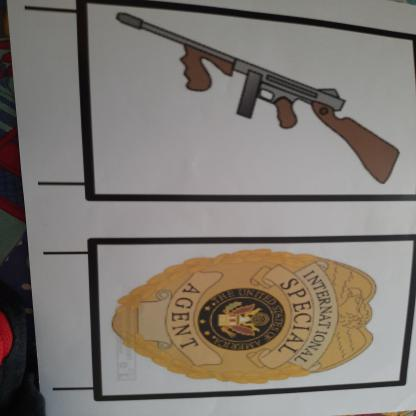Bootlegger: (107, 6, 404, 197)
G-man: (92, 242, 392, 393)
